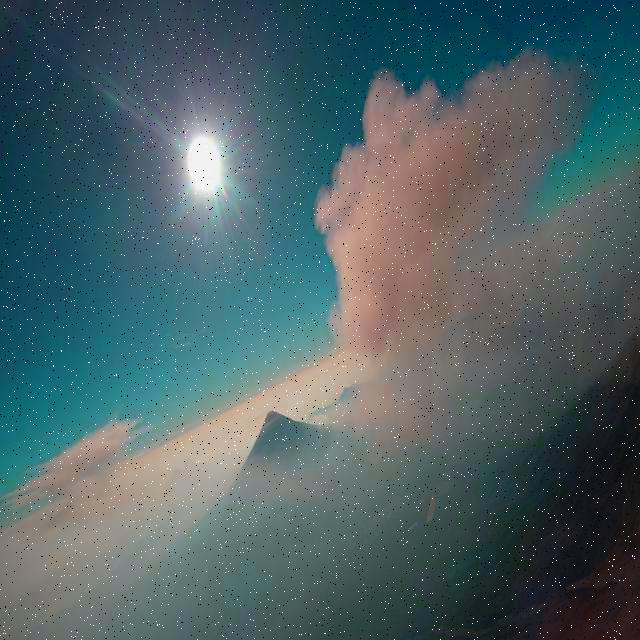Plume: (312, 35, 602, 480)
